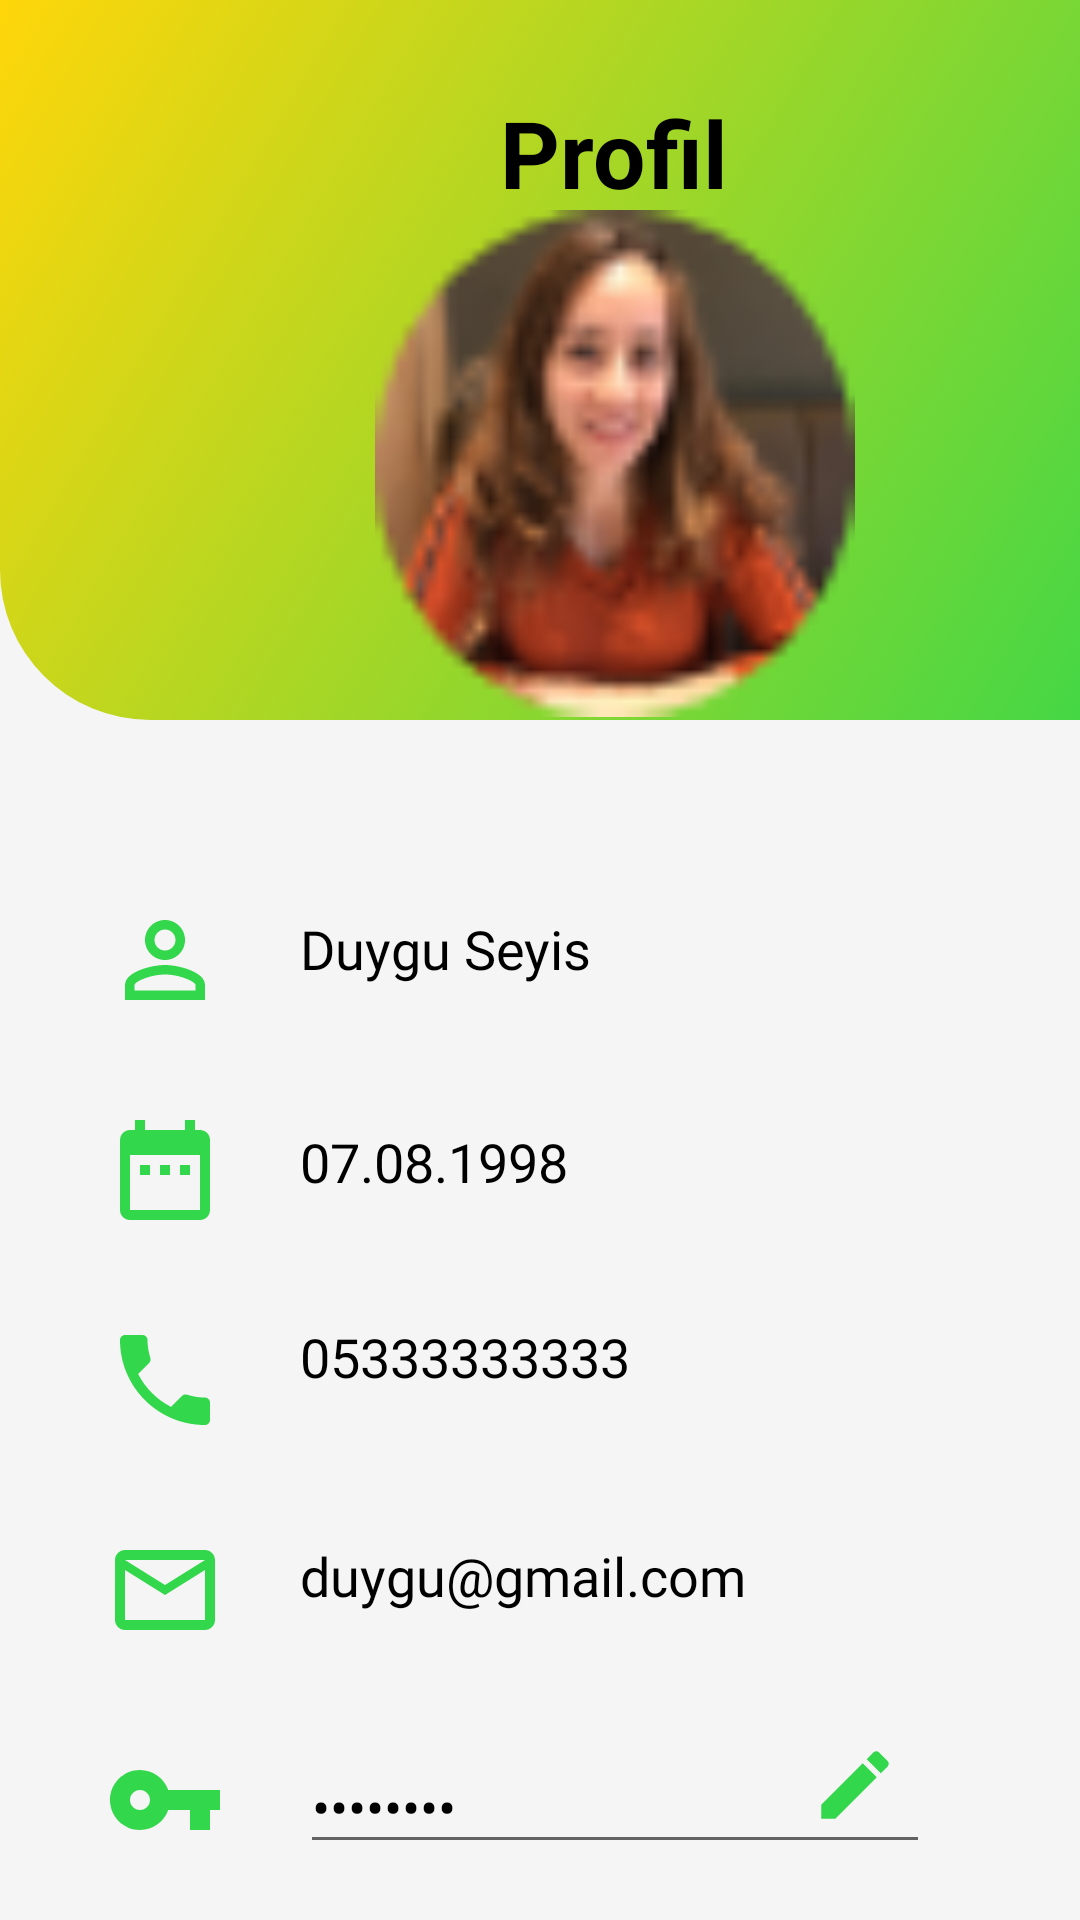

Where to tap for icons on this 1080 × 1920 app screen, as (x=x, y=y):
date range: (x=165, y=1170)
edit: (x=855, y=1785)
person: (x=165, y=960)
phone: (x=165, y=1380)
vpn key: (x=165, y=1800)
